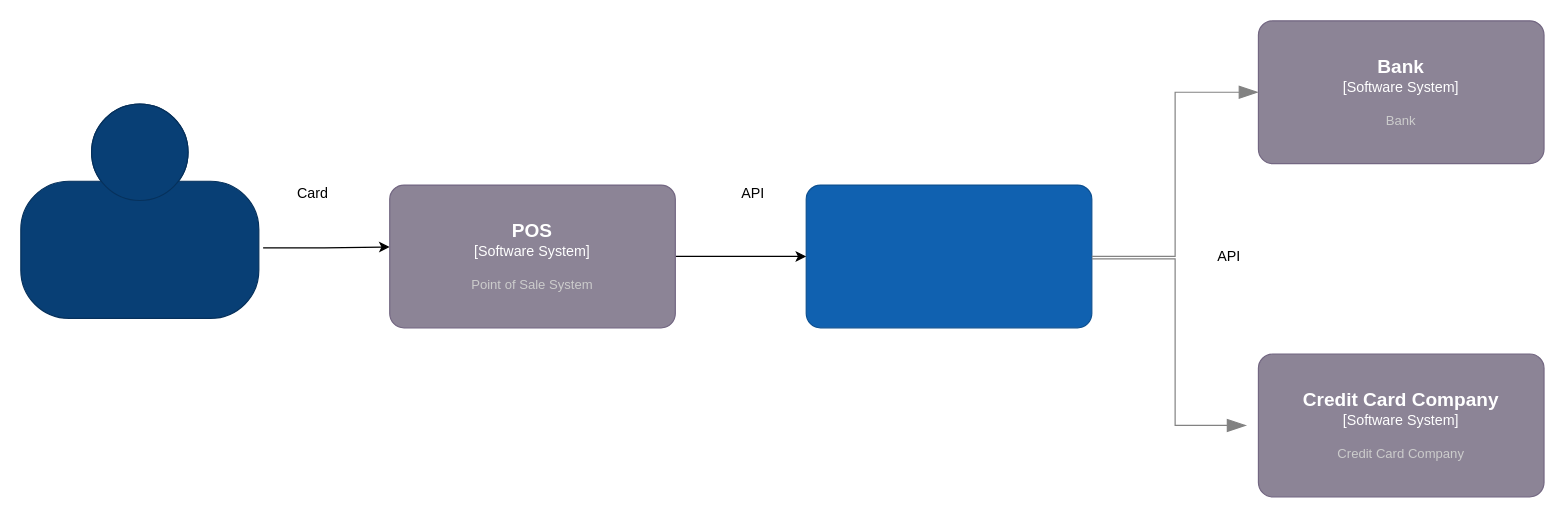
Some shapes in this 1565 by 518 pixel diagram are drawn without their labels. Each missing label, with the centre of its shape:
CCH [Software System] Credit Clearing House: pixel 948 256
Customer [Person] Customer paying with card.: pixel 139 210
